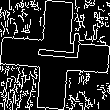L_W: (29, 37, 81, 73)
